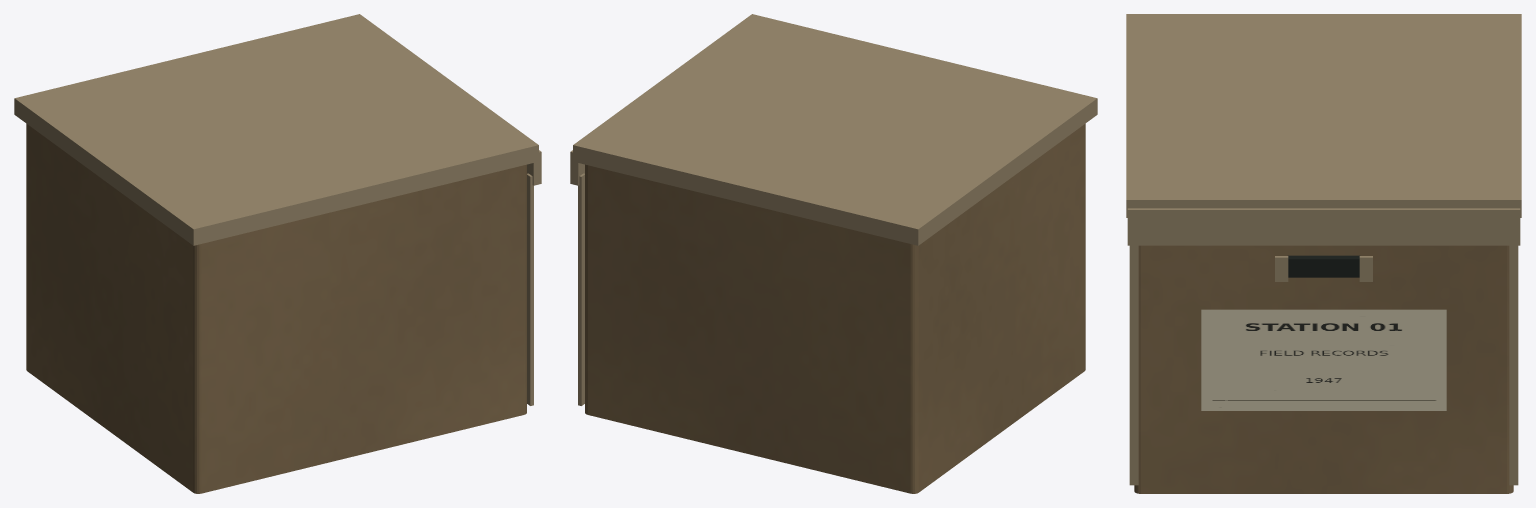
File: SM_ArchiveProps_FieldBox.glb
3 views of the same model, side by side, from view 1: azimuth 30°, elevation 25°; view 2: azimuth 150°, elevation 25°; view 3: azimuth 270°, elevation 25° (orthographic). The views are drawn at different scales.
Parts seen in each view (by area): view 1: SM_ArchiveProps_FieldBox; view 2: SM_ArchiveProps_FieldBox; view 3: SM_ArchiveProps_FieldBox.
Boxes of the visible parts, left/top/right/bottom form: SM_ArchiveProps_FieldBox: left=14, top=14, right=541, bottom=493; SM_ArchiveProps_FieldBox: left=570, top=14, right=1097, bottom=493; SM_ArchiveProps_FieldBox: left=1126, top=14, right=1521, bottom=493.
Bounding box in the file's own units: 0.401 × 0.294 × 0.354.
4 materials, 2 textured.
